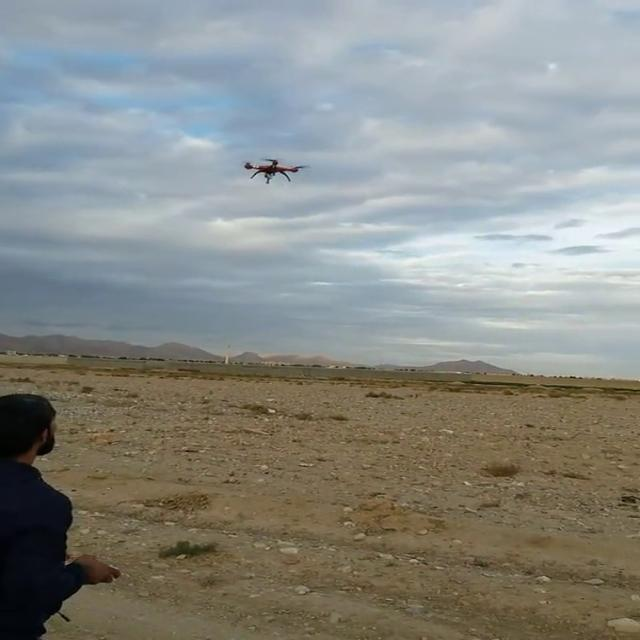drone: (239, 151, 309, 186)
